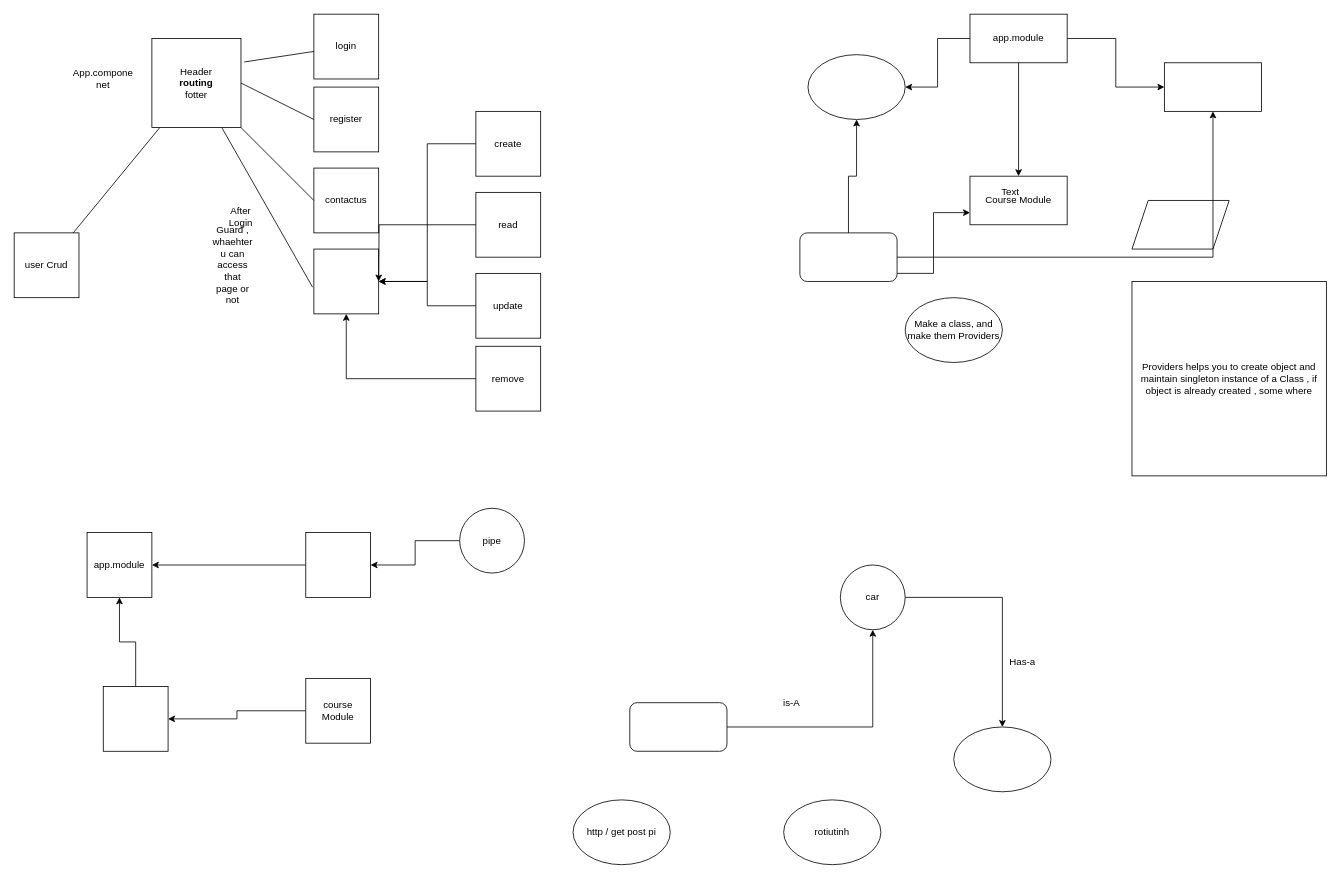
This 1341x879 diagram has some shape labels left out. Each missing label, with the box of its shape:
app route module: (102, 686, 168, 751)
car Module: (1164, 62, 1262, 111)
Course Routing common data: (313, 248, 379, 314)
Declarations, Imports providers: (1131, 200, 1229, 249)
engine: (953, 726, 1051, 792)
Logger Info , error, debug: (799, 232, 897, 281)
Login / Register: (807, 54, 905, 119)
sharedModule: (305, 532, 371, 597)
vechile: (629, 702, 727, 751)
